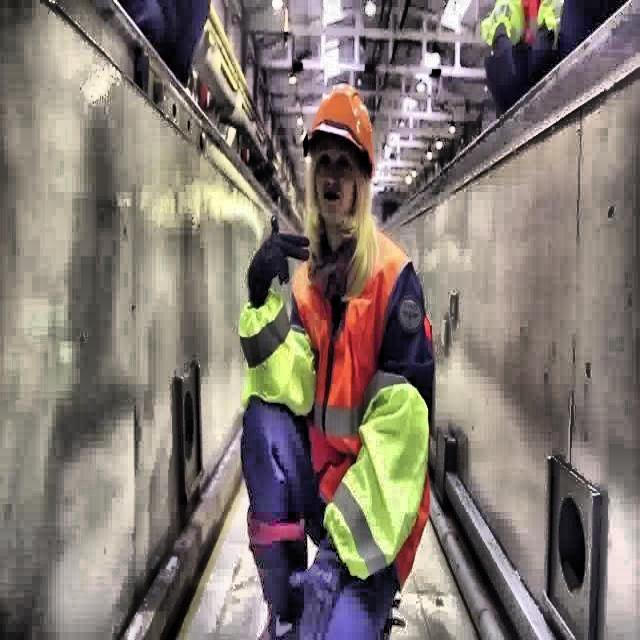safety_jacket: (238, 227, 434, 588), (481, 0, 567, 52)
